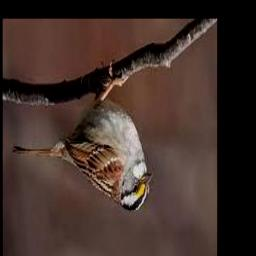Sparrow: (13, 61, 153, 212)
